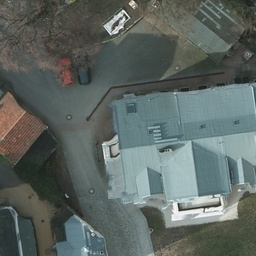car: (76, 52, 92, 85), (54, 56, 72, 85)
